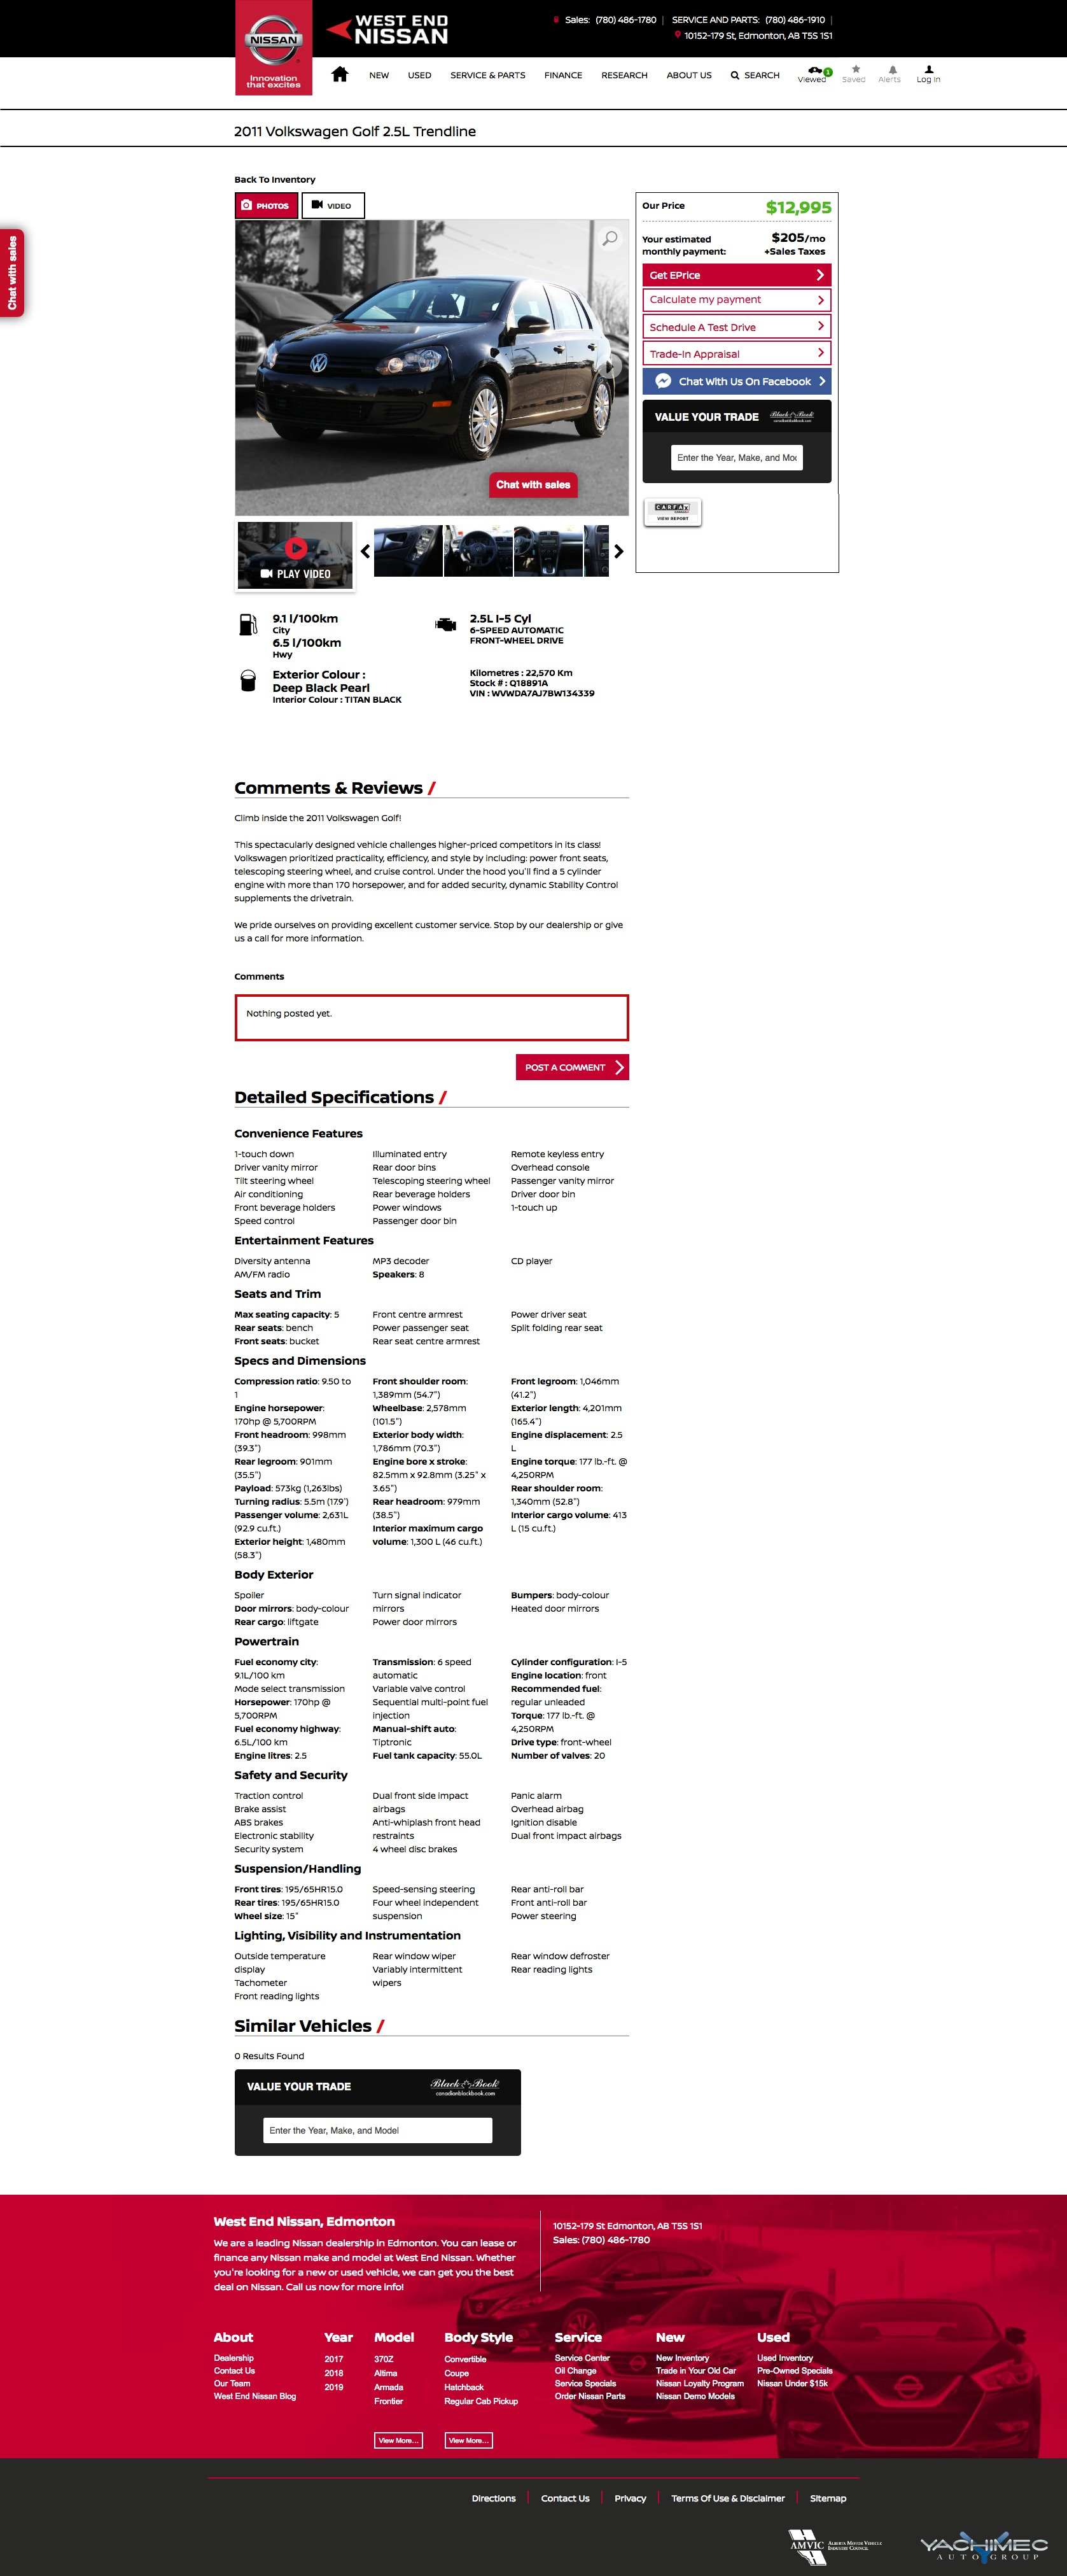car: (614, 542, 625, 560)
